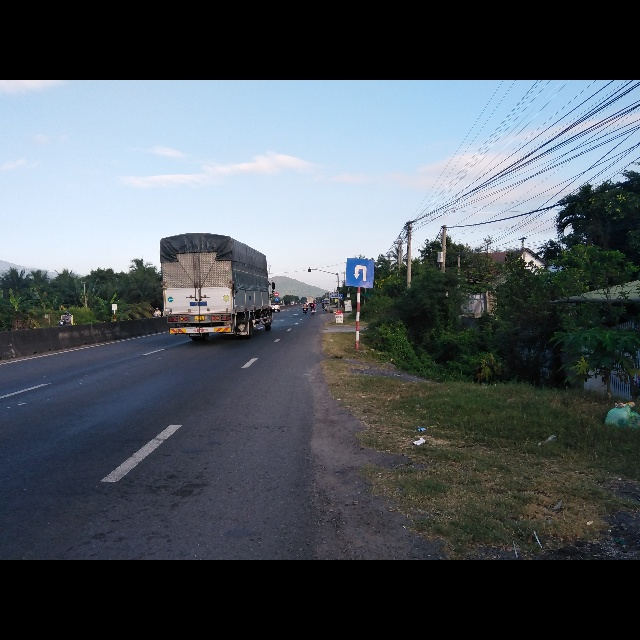Khu vực quay đầu xe: (347, 257, 375, 289)
